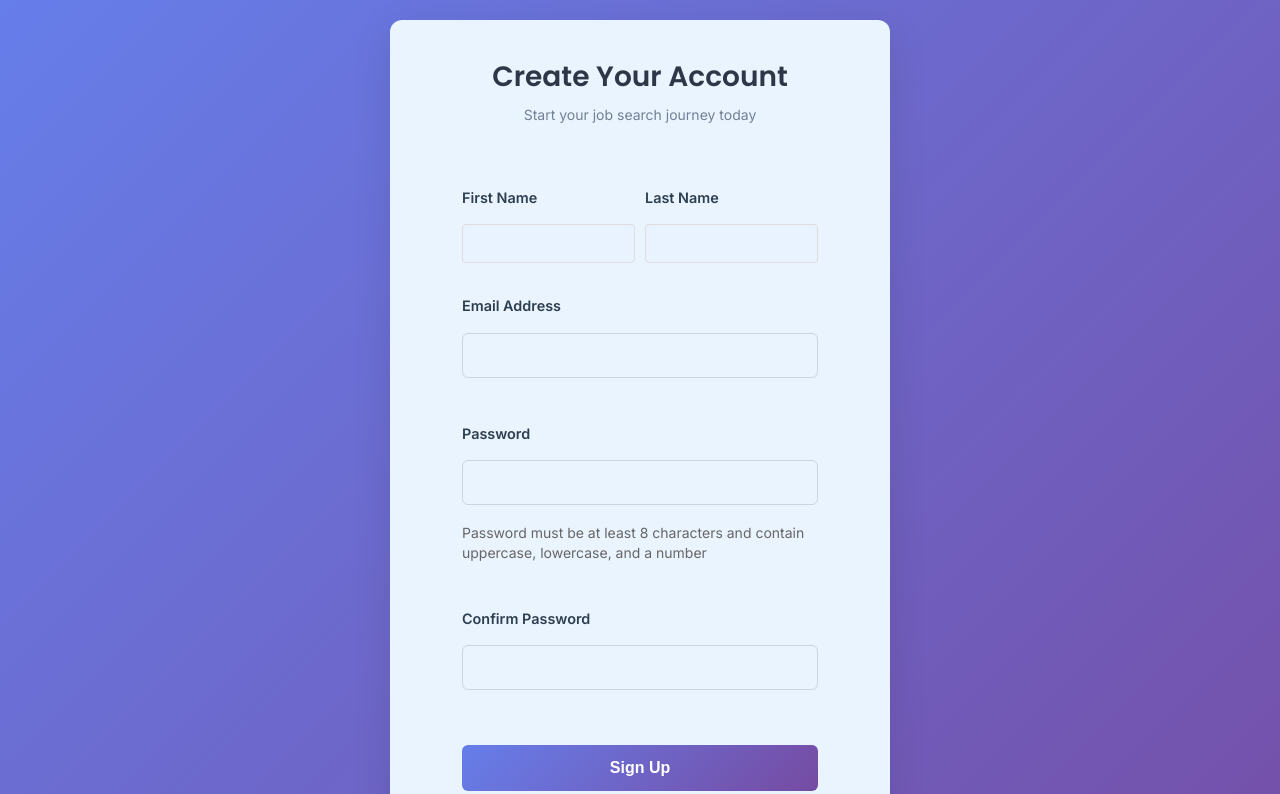
Test: Register › clears field specific errors when the user edits the input
This screenshot has width=1280, height=794.
Step 1. Click the button "Sign Up" → (640, 768), box [462,745,818,791]
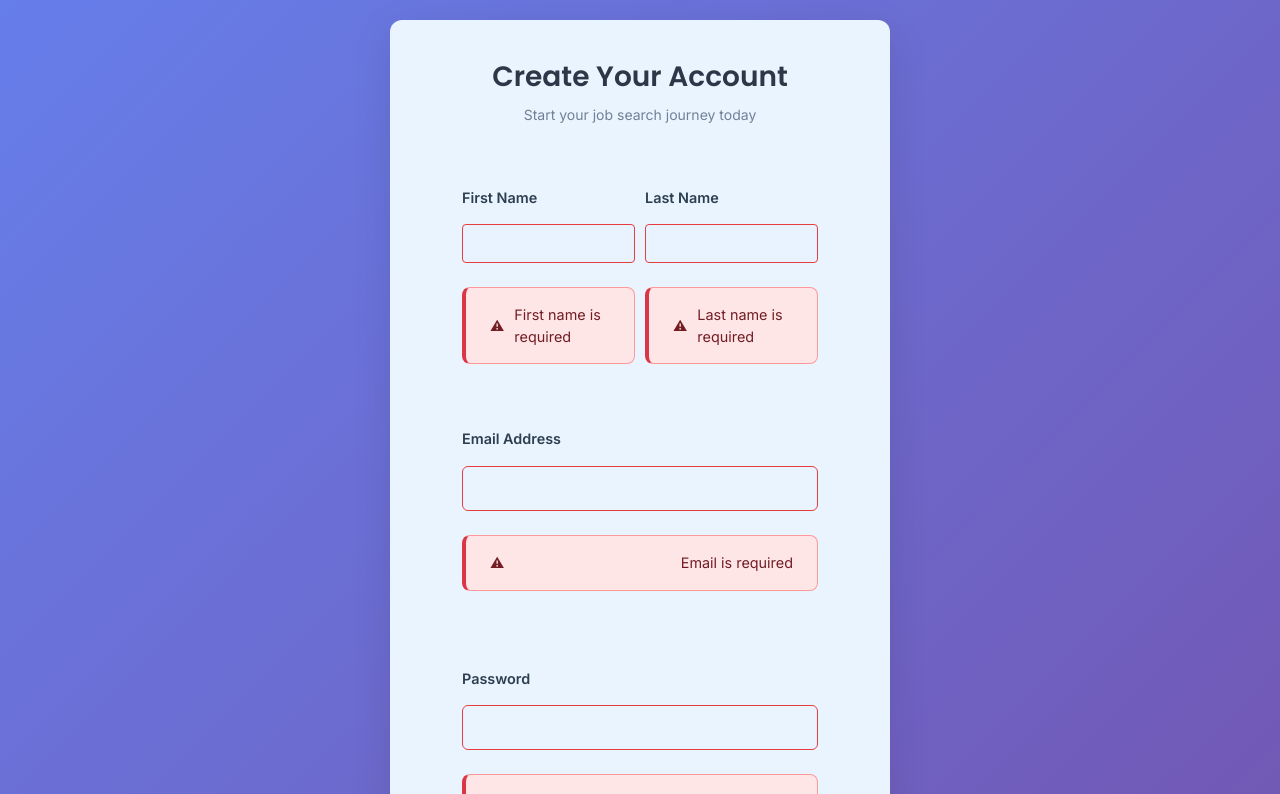
Result: the text "First name is required" is shown at [462,287,635,364]
Step 2. Type "Jane" into the field labelled "First Name" → (548, 244), box [462,224,635,263]
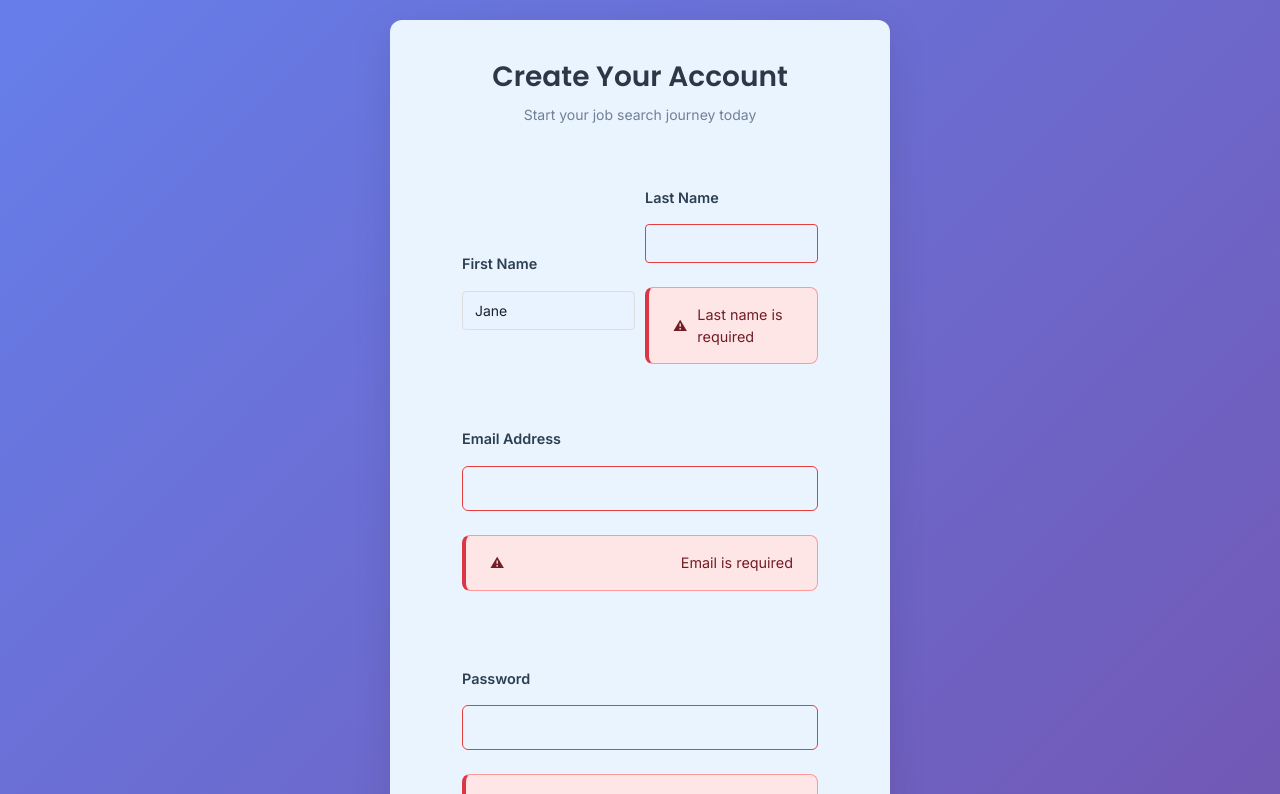
Result: the text "First name is required" is gone
